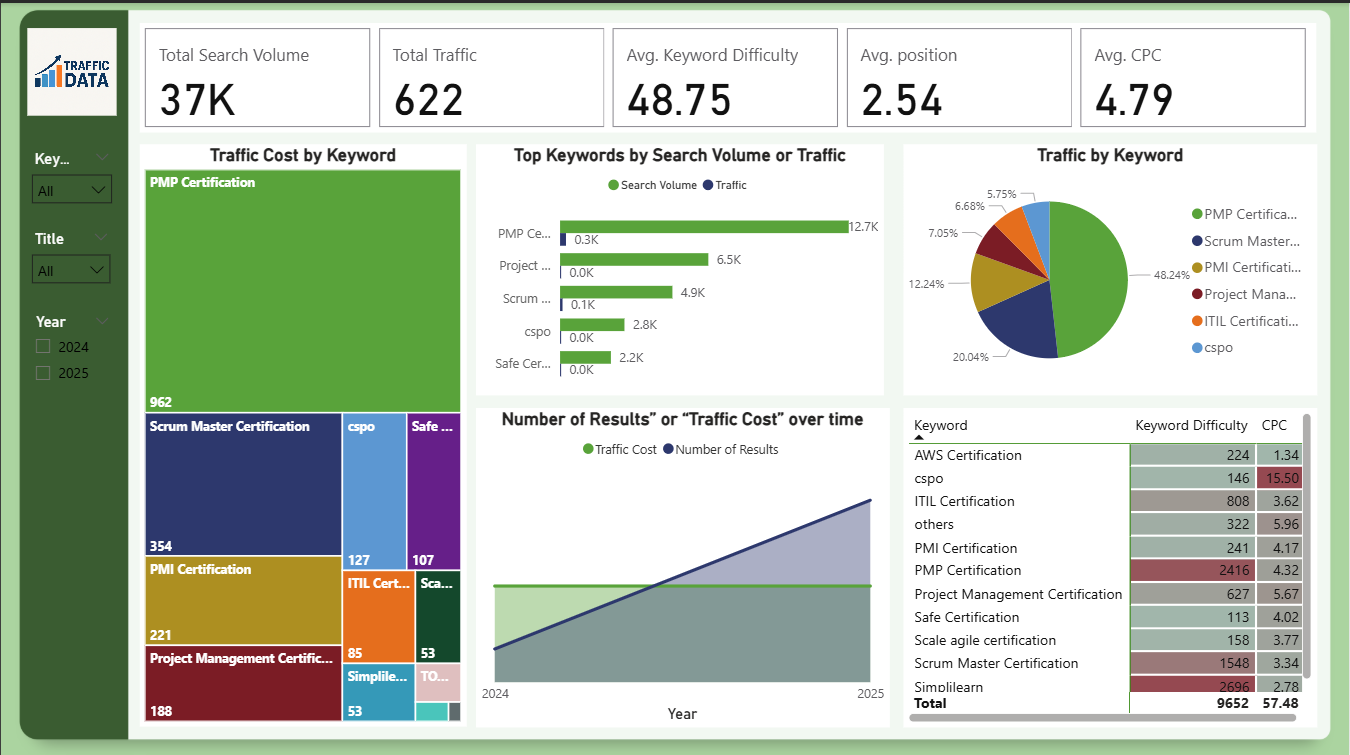

The page's visual inventory and layout, read from the dashboard file:
{"tool":"powerbi","page":{"name":"Page 1","canvas":[1280,720],"ordinal":0},"visuals":[{"type":"cardVisual","fields":{"Data":["Sum(keyword_lookup.Search Volume)","Sum(keyword_lookup.Traffic)","traffic_data -- main table.Avg. Keyword Difficulty","traffic_data -- main table.Avg. position","traffic_data -- main table.Avg. CPC"]},"box":[131.7,19.2,1117,104.3],"z":0},{"type":"slicer","fields":{"Values":["keyword_lookup.Keyword"]},"box":[19.2,134.5,96.1,75.5],"z":1000},{"type":"slicer","fields":{"Values":["title_lookup.Title"]},"box":[19.2,209.9,94.7,70],"z":2000},{"type":"clusteredBarChart","title":"Top Keywords by Search Volume or Traffic","fields":{"Category":["keyword_lookup.Keyword"],"Y":["Sum(keyword_lookup.Search Volume)","Sum(keyword_lookup.Traffic)"]},"box":[451.5,134.5,387,238.8],"z":4000},{"type":"pieChart","fields":{"Y":["Sum(keyword_lookup.Traffic)"],"Category":["keyword_lookup.Keyword"]},"box":[856.3,134.5,392.5,238.8],"z":6000},{"type":"pivotTable","fields":{"Rows":["keyword_lookup.Keyword"],"Values":["Sum(traffic_data -- main table.Keyword Difficulty)","Sum(keyword_lookup.CPC)"]},"box":[856.3,384.2,392.5,303.3],"z":7000},{"type":"treemap","title":"Traffic Cost by Keyword","fields":{"Values":["Sum(keyword_lookup.Traffic Cost)"],"Group":["keyword_lookup.Keyword"]},"box":[131.7,134.5,310.1,553],"z":8000},{"type":"areaChart","title":"Number of Results” or “Traffic Cost” over time","fields":{"Category":["traffic_data -- main table.Last Seen.Variation.Date Hierarchy.Year","traffic_data -- main table.Last Seen.Variation.Date Hierarchy.Quarter","traffic_data -- main table.Last Seen.Variation.Date Hierarchy.Month","traffic_data -- main table.Last Seen.Variation.Date Hierarchy.Day"],"Y":["Sum(keyword_lookup.Traffic Cost)"],"Y2":["Sum(traffic_data -- main table.Number of Results)"]},"box":[451.5,384.2,392.5,303.3],"z":9000},{"type":"image","box":[20.6,19.2,94.7,93.3],"z":9001},{"type":"slicer","fields":{"Values":["traffic_data -- main table.Last Seen.Variation.Date Hierarchy.Year"]},"box":[20.6,289.5,94.7,120.8],"z":9002}]}

Visuals, with their boxes in screenshot pixels (x1, y1, x2, y2), scaled from the page's 1280x720 canvas onto the 1350x755 screenshot:
cardVisual - Sum(keyword_lookup.Search Volume) x Sum(keyword_lookup.Traffic): crop(139, 20, 1317, 130)
slicer - keyword_lookup.Keyword: crop(20, 141, 122, 220)
slicer - title_lookup.Title: crop(20, 220, 120, 294)
"Top Keywords by Search Volume or Traffic" clusteredBarChart: crop(476, 141, 884, 391)
pieChart - Sum(keyword_lookup.Traffic) x keyword_lookup.Keyword: crop(903, 141, 1317, 391)
pivotTable - keyword_lookup.Keyword x Sum(traffic_data -- main table.Keyword Difficulty): crop(903, 403, 1317, 721)
"Traffic Cost by Keyword" treemap: crop(139, 141, 466, 721)
"Number of Results” or “Traffic Cost” over time" areaChart: crop(476, 403, 890, 721)
image: crop(22, 20, 122, 118)
slicer - traffic_data -- main table.Last Seen.Variation.Date Hierarchy.Year: crop(22, 304, 122, 430)
